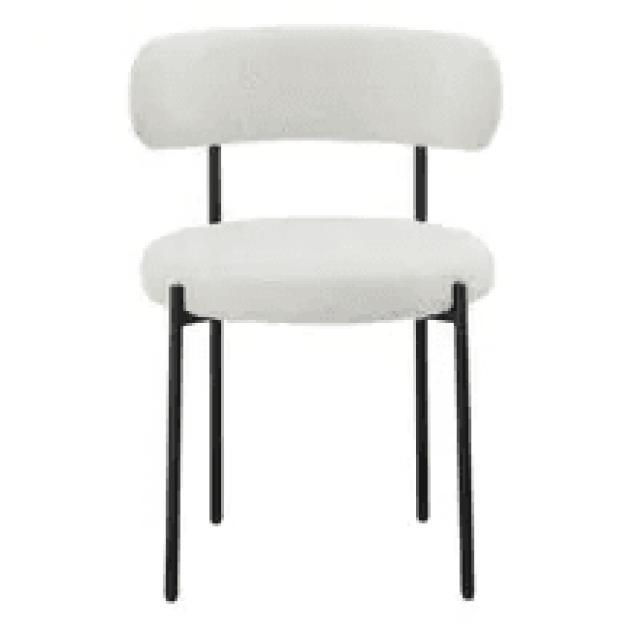chair: (123, 20, 513, 608), (120, 21, 510, 320)
